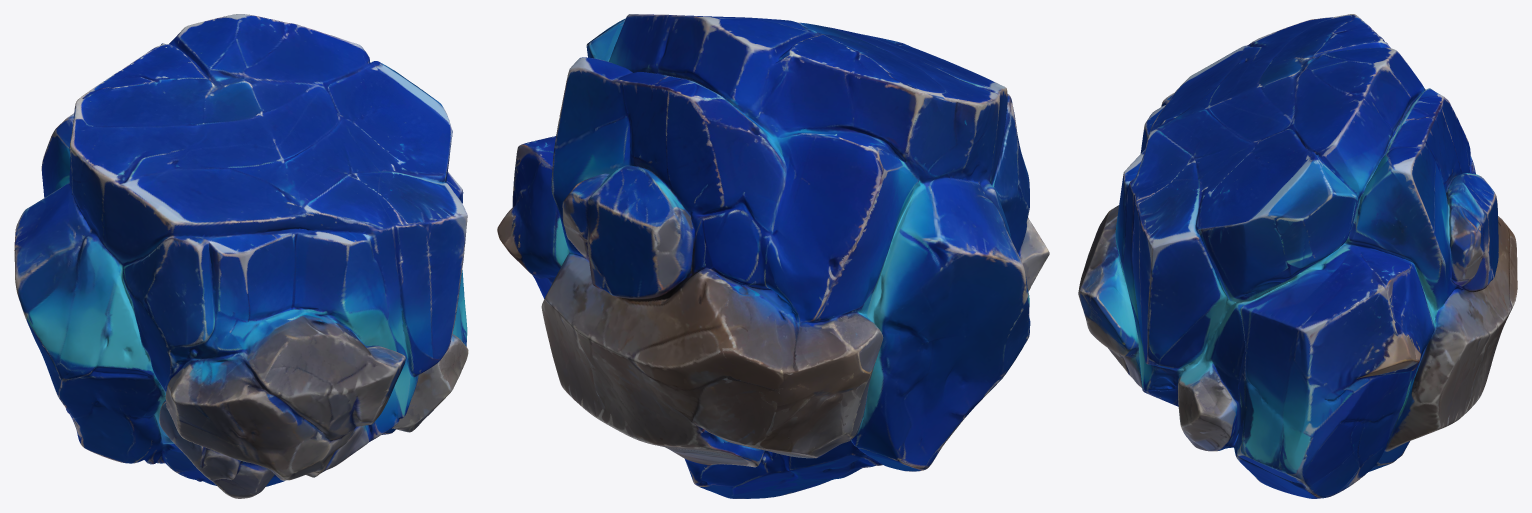
Rendered from Minerais 2 .glb.
3 renders of one model, left to right at view 1: azimuth 30°, elevation 25°; view 2: azimuth 150°, elevation 25°; view 3: azimuth 270°, elevation 25°, orthographic. The views are drawn at different scales.
Parts seen in each view (by area): view 1: tripo_node_b08e54eb-25f2-4082-ae7a-00a7d3969038; view 2: tripo_node_b08e54eb-25f2-4082-ae7a-00a7d3969038; view 3: tripo_node_b08e54eb-25f2-4082-ae7a-00a7d3969038.
Part boxes in pixels (x1,y1,x2,y2): tripo_node_b08e54eb-25f2-4082-ae7a-00a7d3969038: (14, 14, 468, 498); tripo_node_b08e54eb-25f2-4082-ae7a-00a7d3969038: (497, 14, 1049, 498); tripo_node_b08e54eb-25f2-4082-ae7a-00a7d3969038: (1078, 14, 1517, 498).
Size of the model in its own units: 1 by 0.9676 by 0.9105.
Materials: 1 (1 with a texture image).
